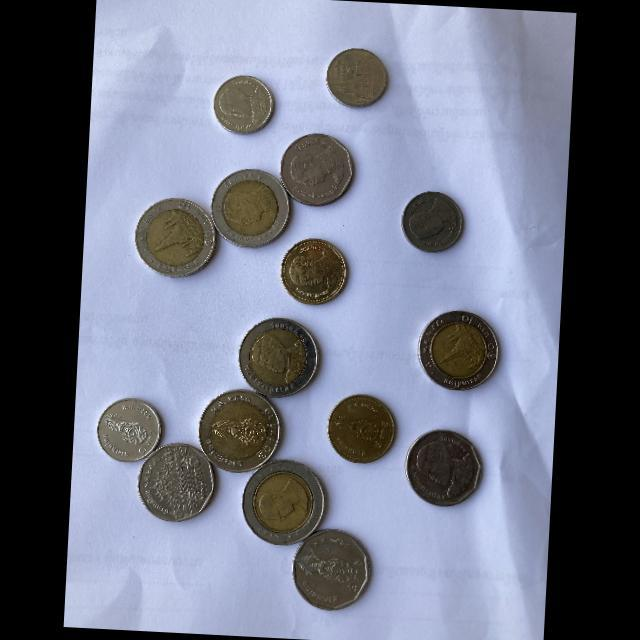1 Bath: (99, 397, 165, 467), (400, 188, 467, 256), (214, 70, 278, 141), (324, 48, 392, 110)
10 Bath: (238, 457, 332, 550), (196, 387, 288, 474), (416, 307, 506, 395), (209, 165, 297, 250), (239, 314, 325, 400), (134, 197, 219, 282)
2 Bath: (330, 392, 400, 467), (280, 238, 352, 307)
5 Bath: (137, 441, 222, 525), (294, 526, 376, 613), (406, 429, 485, 510), (280, 131, 358, 209)
